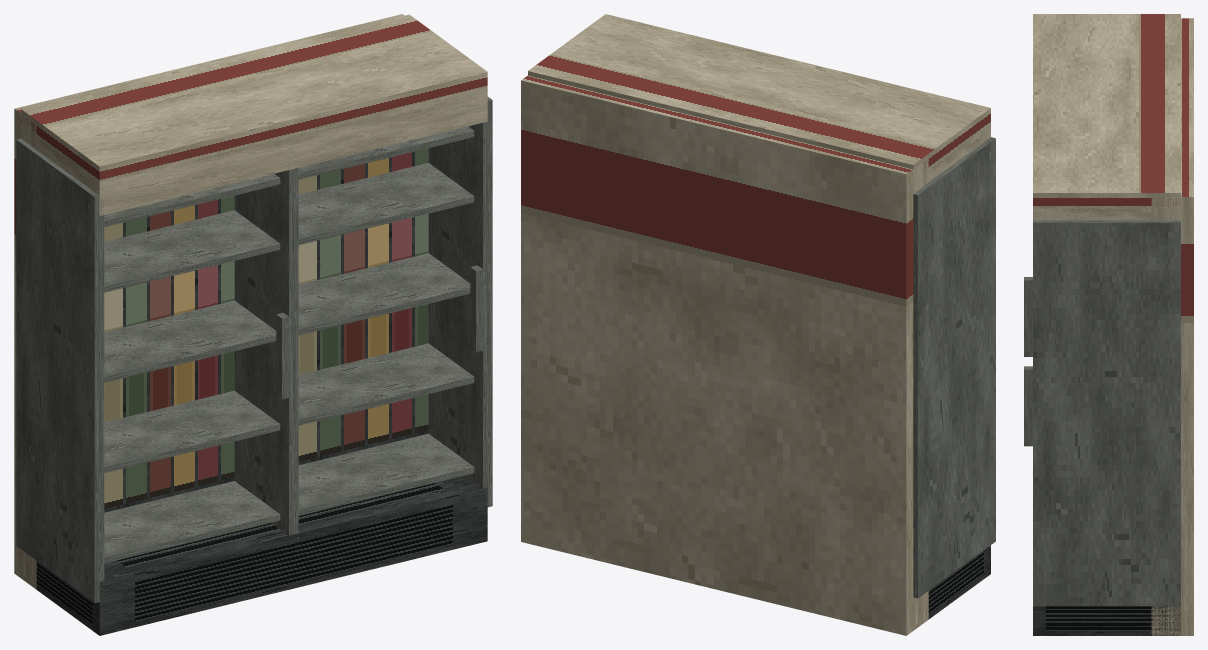
Rendered from cooler.glb.
3 views of the same model, side by side, from view 1: azimuth 30°, elevation 25°; view 2: azimuth 150°, elevation 25°; view 3: azimuth 270°, elevation 25° (orthographic). The views are drawn at different scales.
Visible parts, largest first — view 1: Body; view 2: Body; view 3: Body.
Part boxes in pixels (x1,y1,x2,y2): Body: [14, 14, 492, 635]; Body: [521, 14, 995, 635]; Body: [1024, 14, 1193, 635].
Size of the model in its own units: 1.85 by 2.08 by 0.7225.
Materials: 1 (1 with a texture image).
